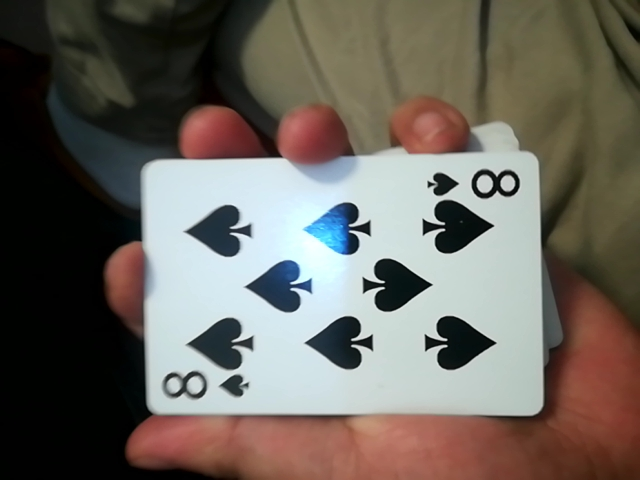ht 8: (123, 140, 543, 429)
